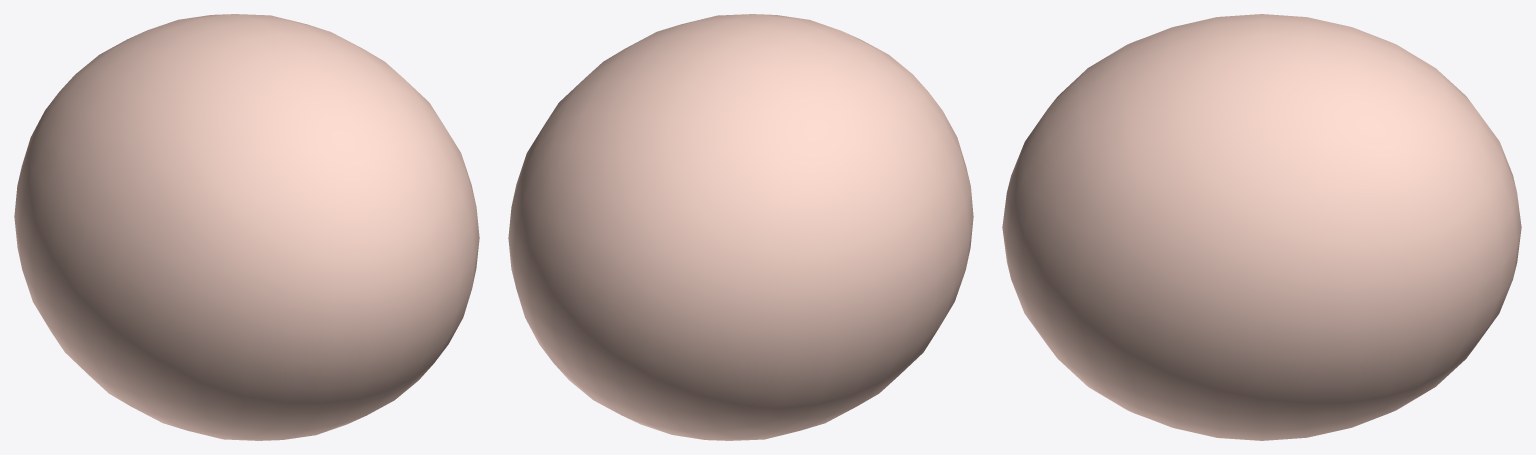
File: minjihair2.fbx
3 views of the same model, side by side, from view 1: azimuth 30°, elevation 25°; view 2: azimuth 150°, elevation 25°; view 3: azimuth 270°, elevation 25° (orthographic). The views are drawn at different scales.
Visible parts, largest first — view 1: head.001; view 2: head.001; view 3: head.001.
Boxes of the visible parts, <box> form: head.001: <box>14,14,479,440</box>; head.001: <box>508,14,973,440</box>; head.001: <box>1002,14,1521,440</box>.
Bounding box in the file's own units: 407 × 373 × 458.
